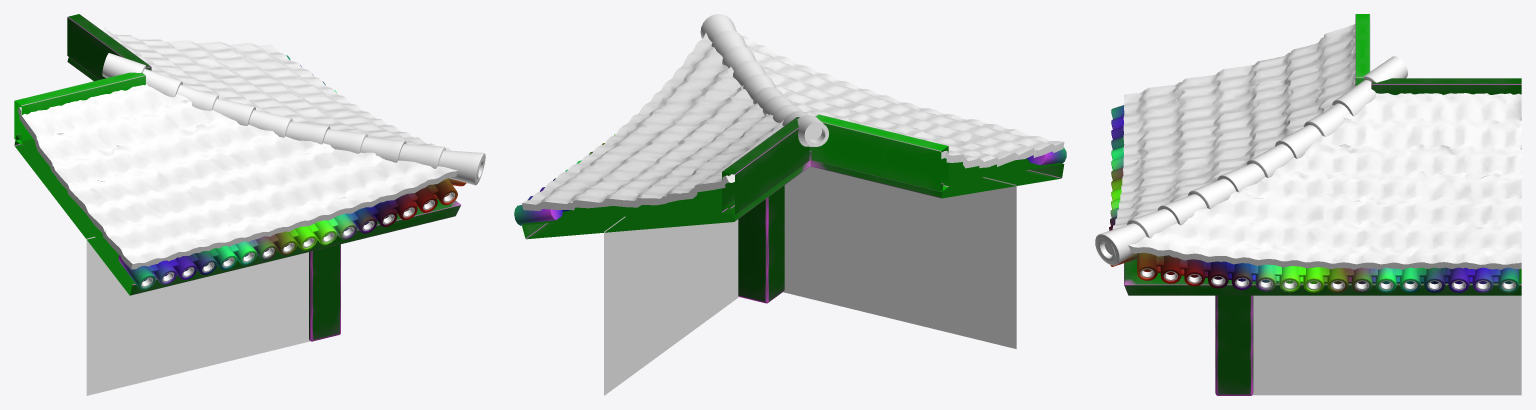
Rendered from roof_fenced_200_01_corner.fbx.
The picture shows the model from 3 angles, left to right: view 1: azimuth 30°, elevation 25°; view 2: azimuth 150°, elevation 25°; view 3: azimuth 270°, elevation 25°; orthographic projection. The views are drawn at different scales.
Visible parts, largest first — view 1: roof_fenced_200_01_corner; view 2: roof_fenced_200_01_corner; view 3: roof_fenced_200_01_corner.
Boxes of the visible parts, x1,y1,x2,y2 form: roof_fenced_200_01_corner: [14, 14, 485, 395]; roof_fenced_200_01_corner: [514, 14, 1066, 395]; roof_fenced_200_01_corner: [1095, 14, 1521, 395].
Bounding box in the file's own units: 2.8 × 1.93 × 2.82.
